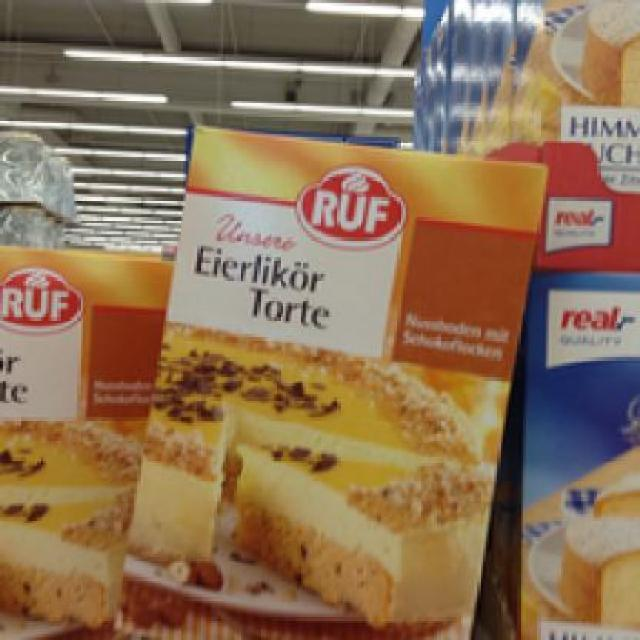Cake: (103, 120, 546, 629), (0, 238, 172, 632)
